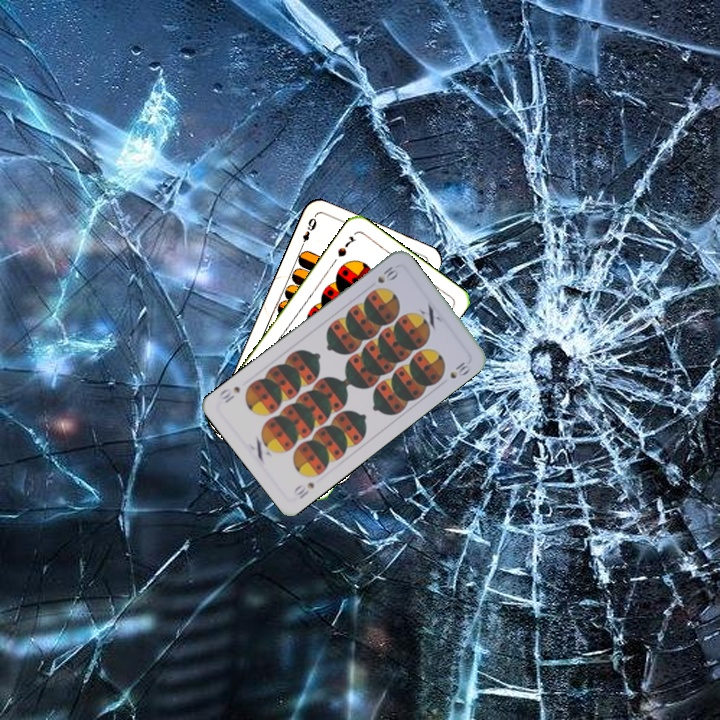E9: (296, 214, 319, 251)
S10: (289, 478, 317, 502), (373, 262, 399, 286)
S7: (333, 232, 359, 260)
